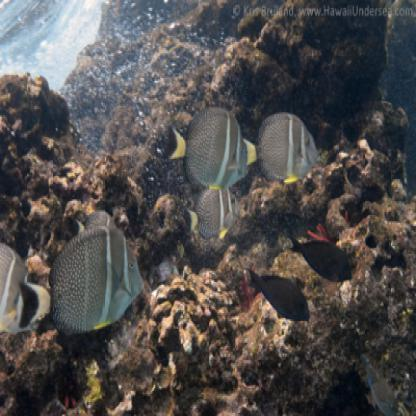surgeon: (246, 266, 318, 328), (286, 229, 358, 286)
